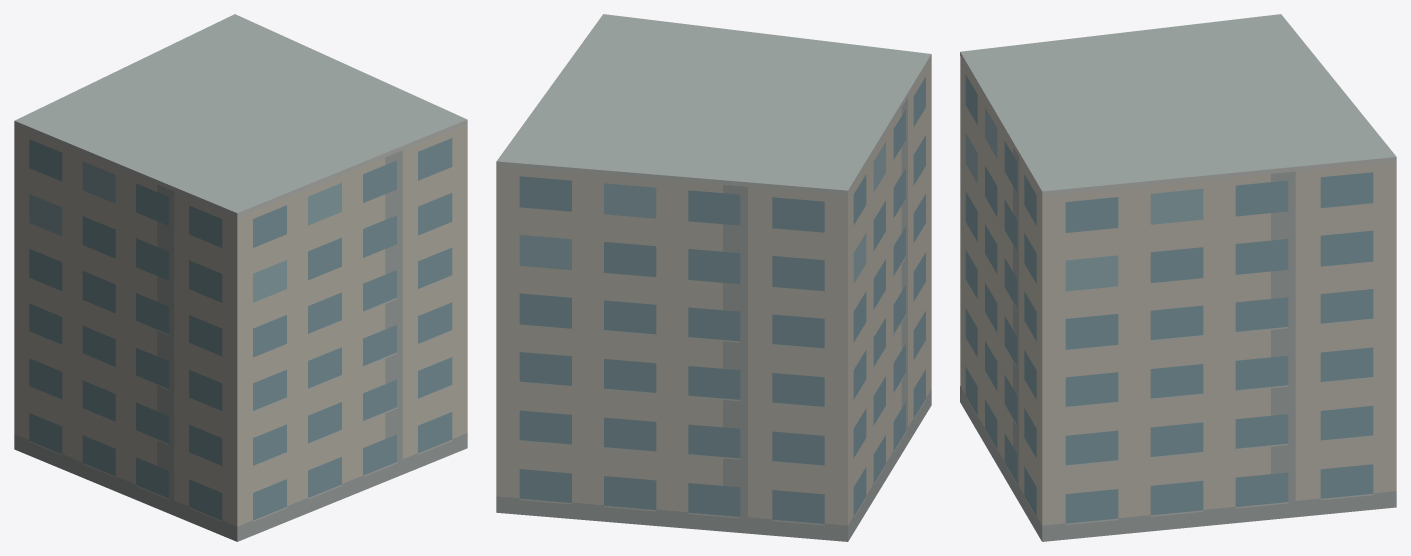
Rendered from survey-upis-32943863.glb.
3 views of the same model, side by side, from view 1: azimuth 30°, elevation 25°; view 2: azimuth 150°, elevation 25°; view 3: azimuth 270°, elevation 25° (orthographic). The views are drawn at different scales.
Visible parts, largest first — view 1: survey-upis-32943863.tmp; view 2: survey-upis-32943863.tmp; view 3: survey-upis-32943863.tmp.
Part boxes in pixels (x1=…): survey-upis-32943863.tmp: x1=14, y1=14, x2=467, y2=541; survey-upis-32943863.tmp: x1=496, y1=14, x2=931, y2=541; survey-upis-32943863.tmp: x1=960, y1=14, x2=1396, y2=541.
Bounding box in the file's own units: 19.88 × 18.3 × 20.67.
